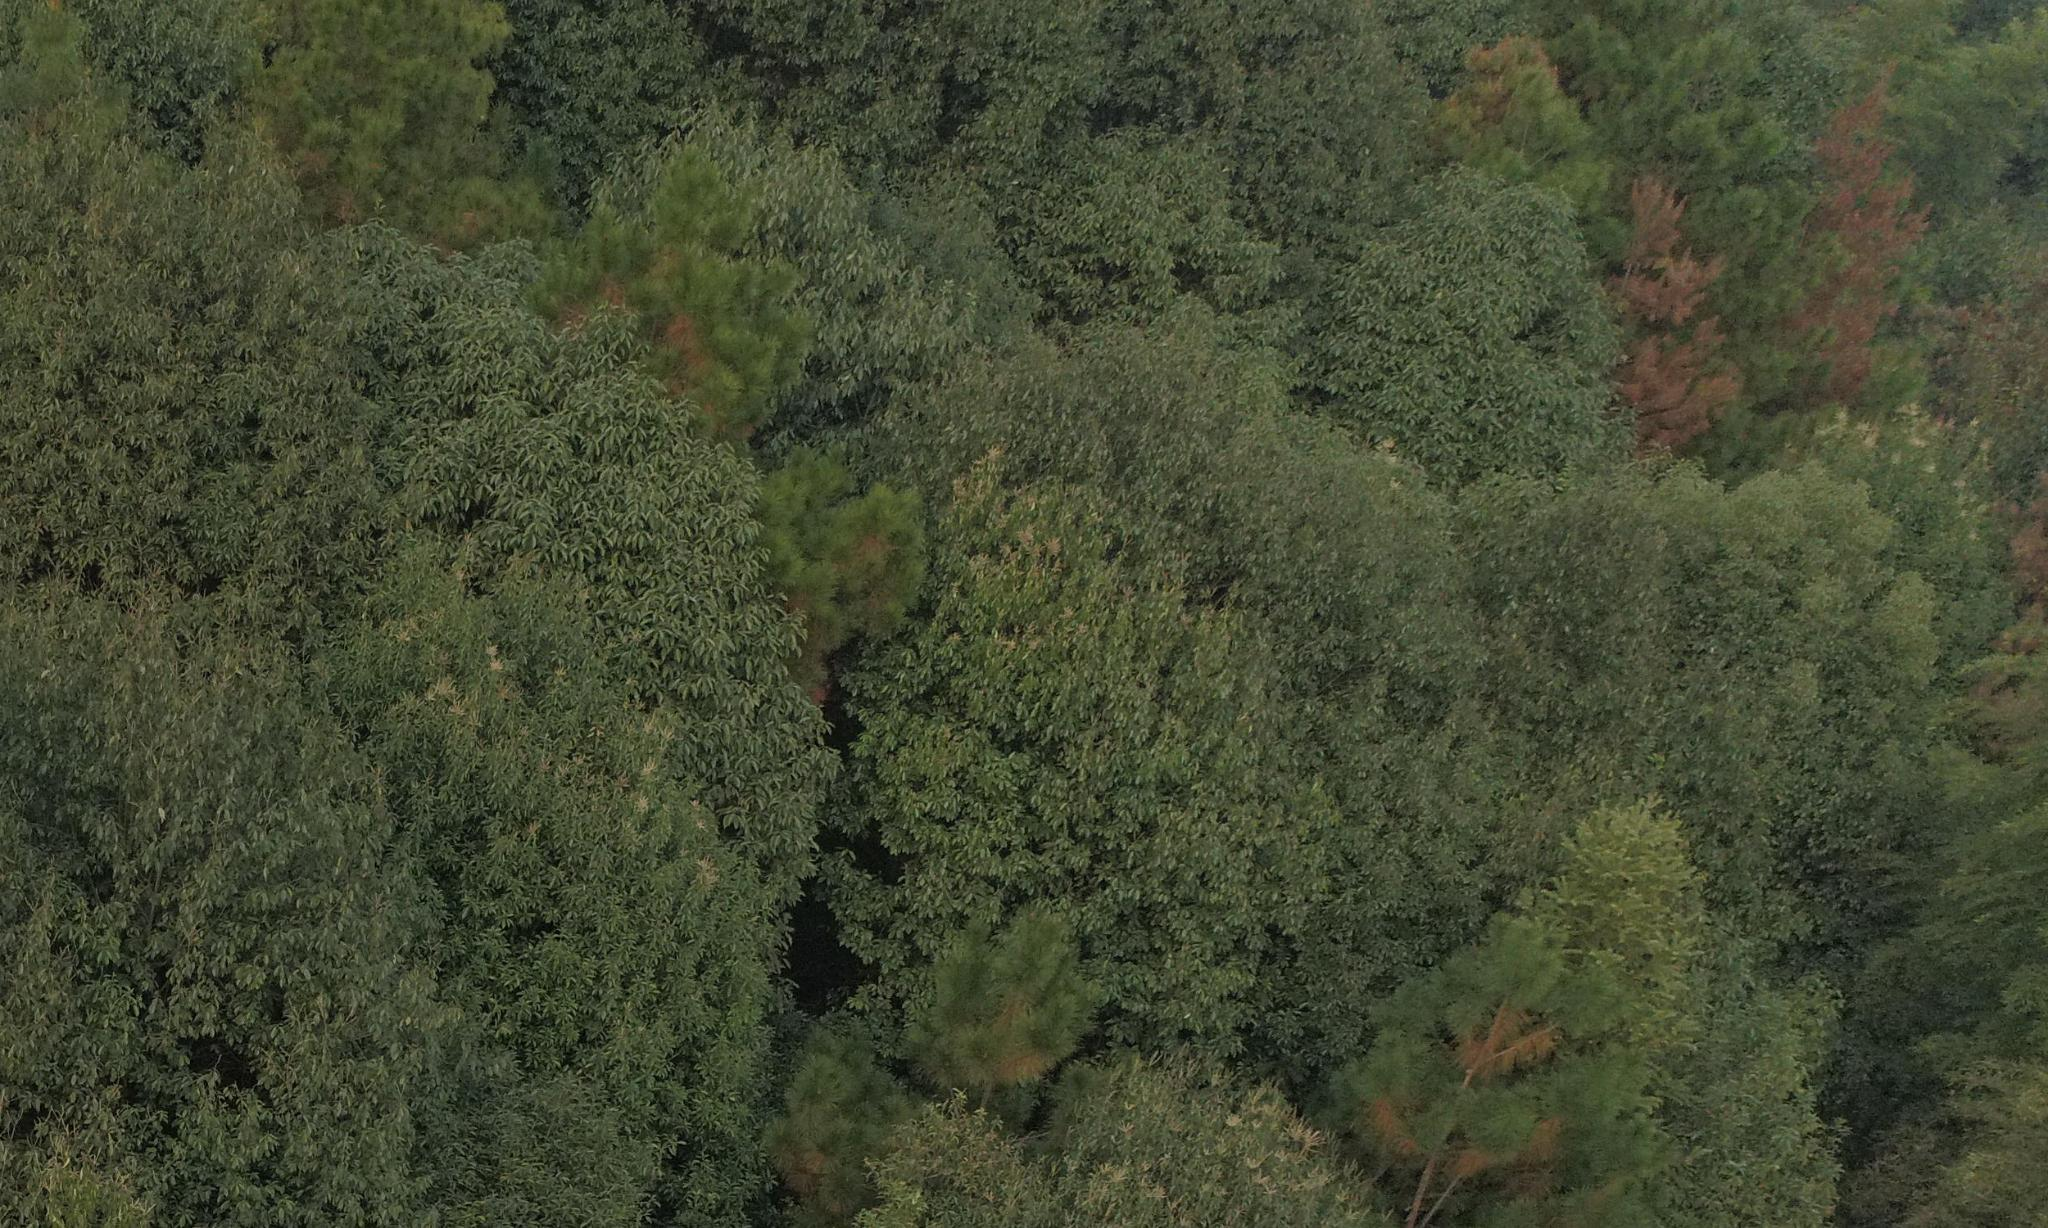heavy: (1789, 72, 1915, 415), (1611, 146, 1737, 472)
light: (1329, 892, 1586, 1205), (541, 228, 713, 411), (746, 512, 905, 708), (937, 918, 1098, 1111), (1437, 18, 1580, 186), (740, 1055, 860, 1209)
